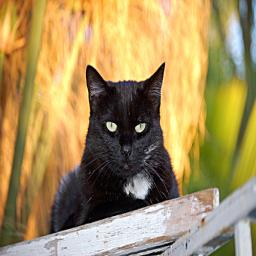catnose: (118, 144, 134, 161)
